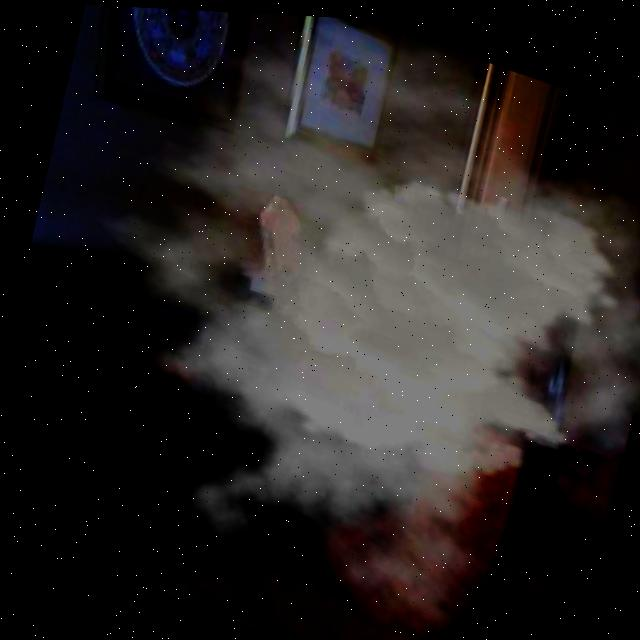Smoke: (25, 5, 640, 640)
